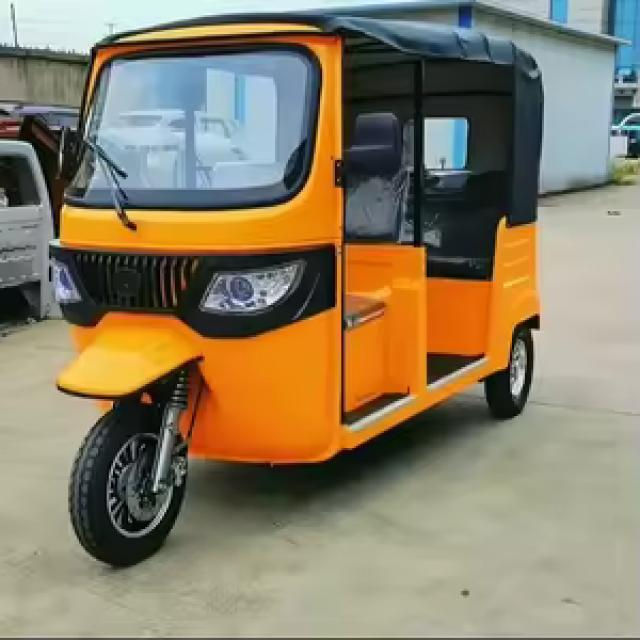Vehicles: (51, 2, 588, 568)
